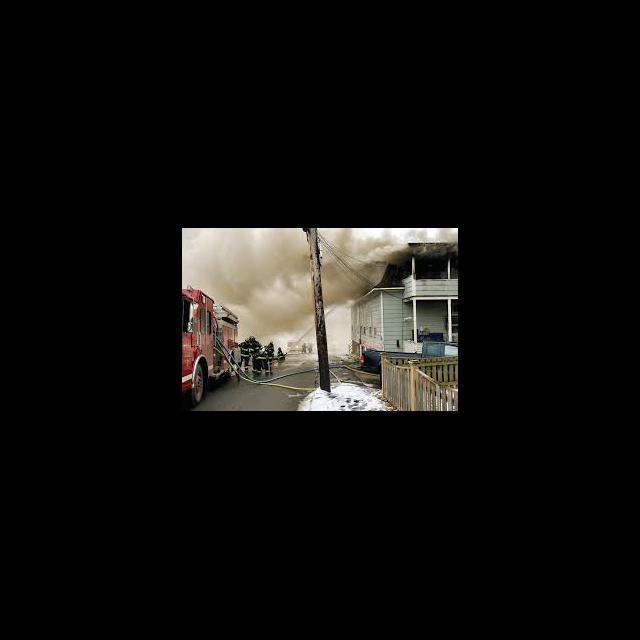Smoke: (240, 236, 296, 329), (182, 230, 234, 282), (350, 228, 400, 256), (400, 229, 458, 243), (322, 278, 348, 302)
